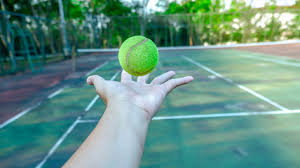tennis_ball: (118, 35, 159, 75)
